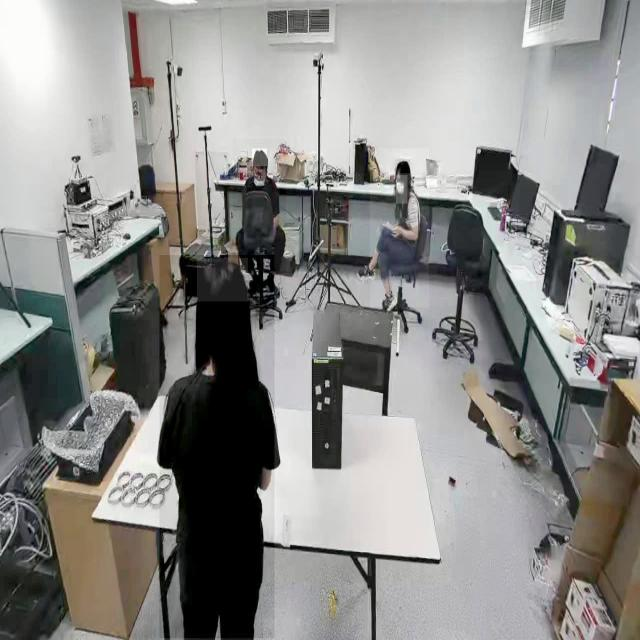face_mask: (396, 175, 408, 204)
hand_noglove: (389, 222, 403, 239)
head_nohelmet: (197, 258, 249, 302), (252, 149, 268, 167), (396, 159, 410, 174)
person: (159, 255, 275, 639), (370, 148, 430, 308), (232, 139, 286, 295)
shoes: (379, 286, 397, 319), (263, 271, 281, 298), (356, 263, 377, 285)
